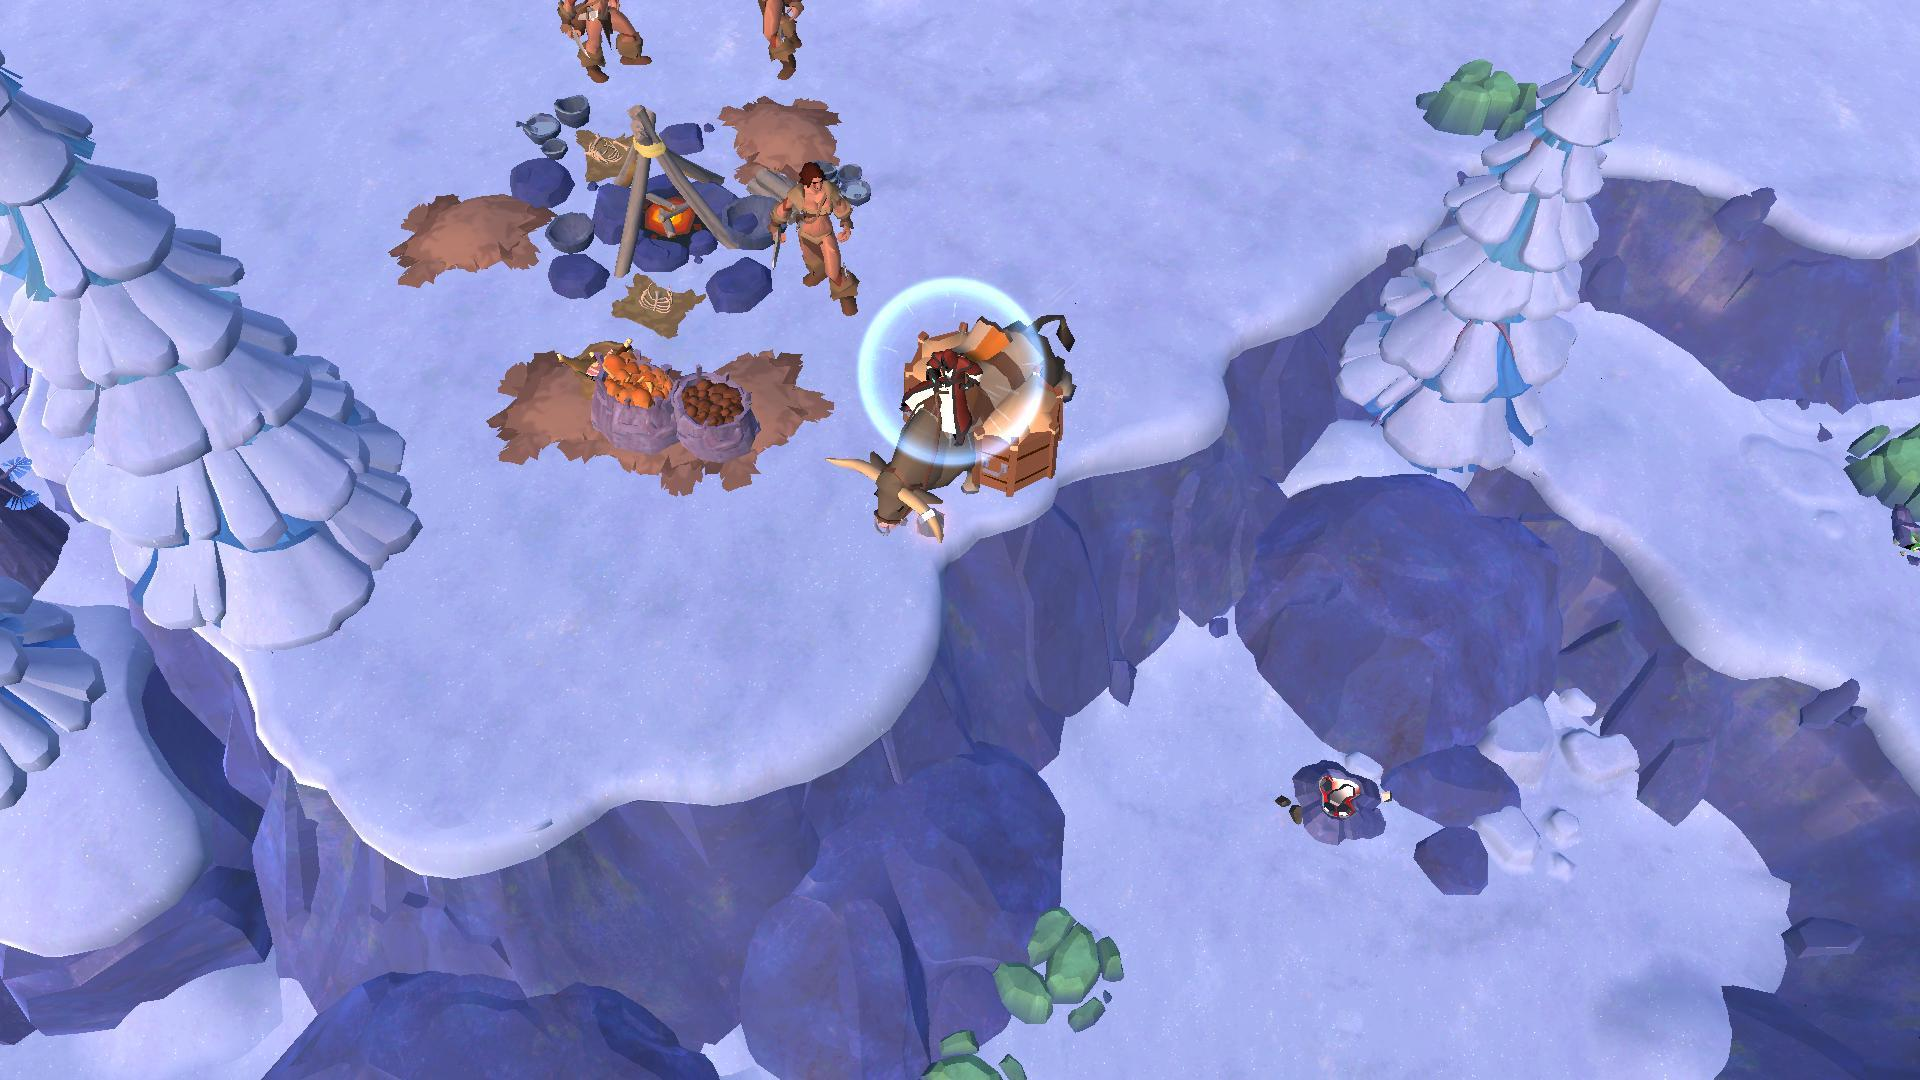enemy_factionKeeper: (757, 153, 856, 315), (556, 0, 654, 84), (737, 0, 808, 90)
rock_t3: (985, 899, 1125, 1035), (1412, 53, 1543, 146), (1840, 407, 1920, 534), (927, 1029, 1030, 1080)
